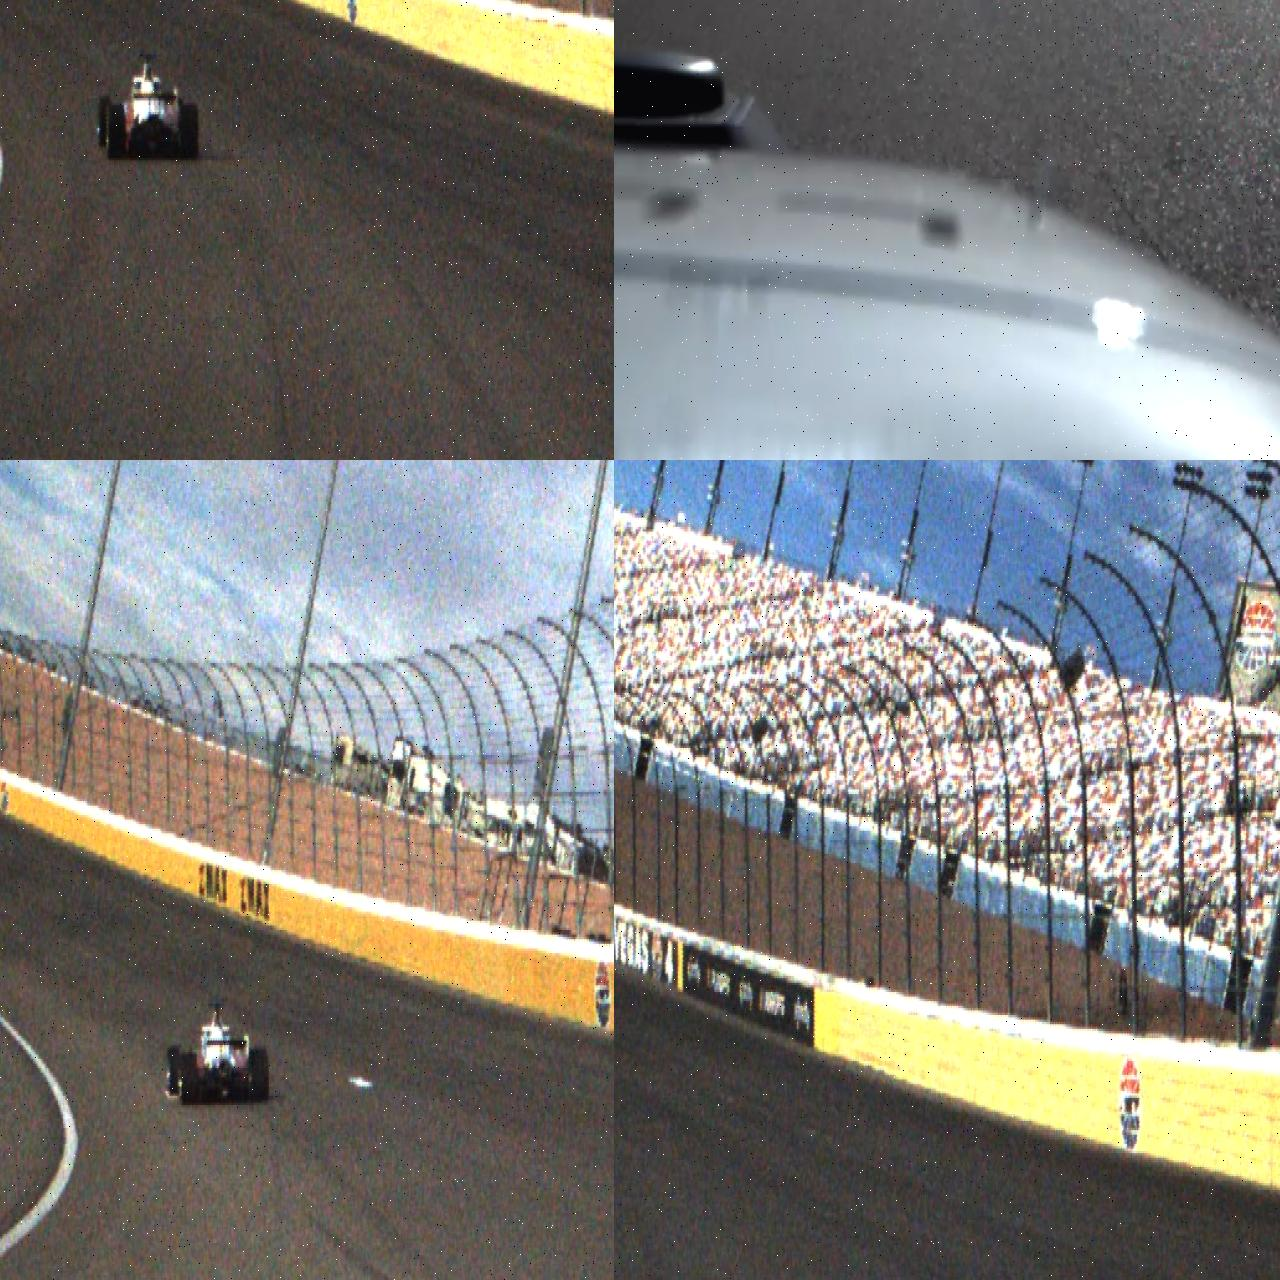AV: (96, 52, 200, 164), (168, 998, 270, 1106)
Wheel: (106, 104, 126, 162), (250, 1048, 270, 1102), (182, 102, 199, 162), (96, 96, 112, 148), (182, 1053, 198, 1105), (168, 1046, 180, 1096)
